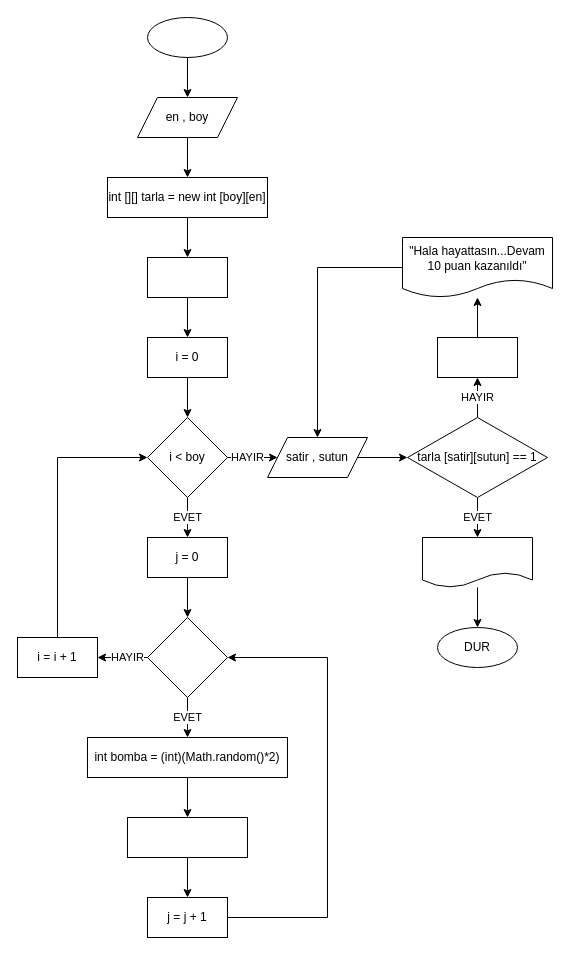
Some shapes in this 570 by 955 pixel diagram are drawn without their labels. The shapes that lost their labels are listed below. From the top down, each one's centre as x and y in pixels, then its label:
point (187, 37): BAŞLA
point (187, 277): puan = 0
point (477, 357): puan += 10
point (477, 562): "Game Over"+puan
point (187, 657): j < en
point (187, 837): tarla [i][j] = bomba
